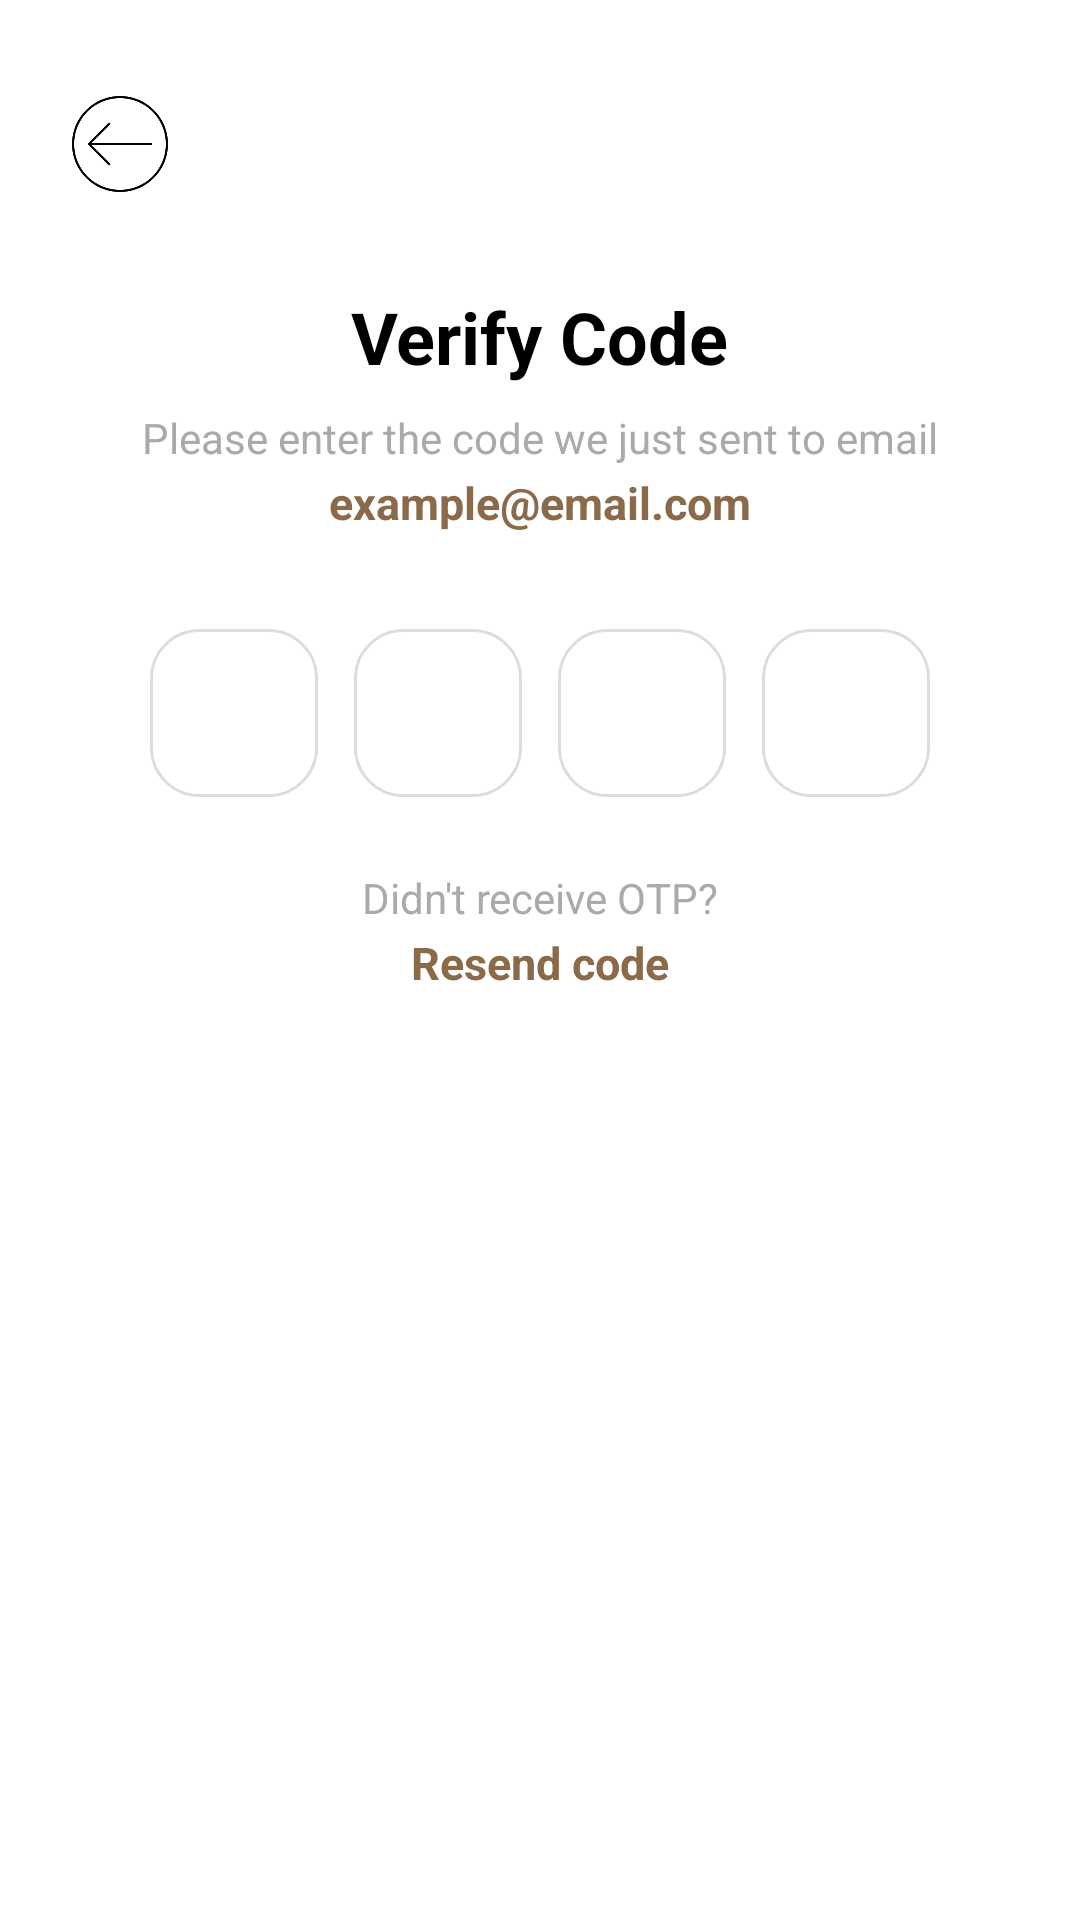

Icon click points for this 1080px×1920px phone screenshot, format [x,y]:
Back: [120,144]
